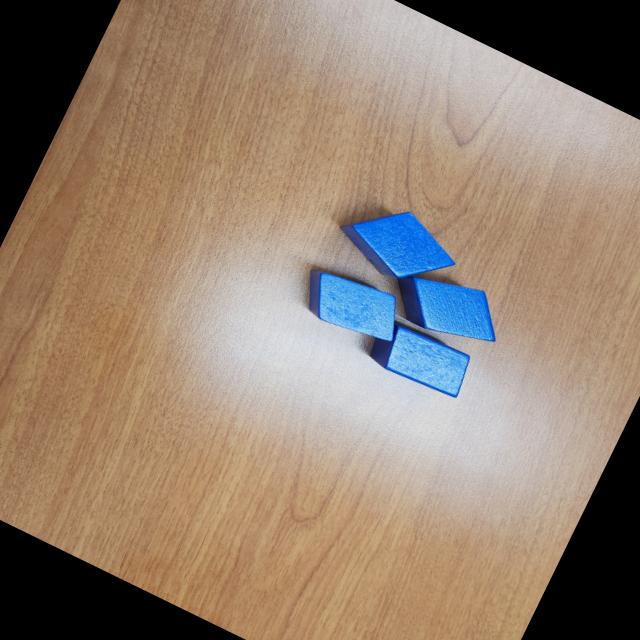blue: (328, 188, 468, 302), (382, 255, 514, 360), (292, 256, 412, 352), (364, 314, 478, 403)
